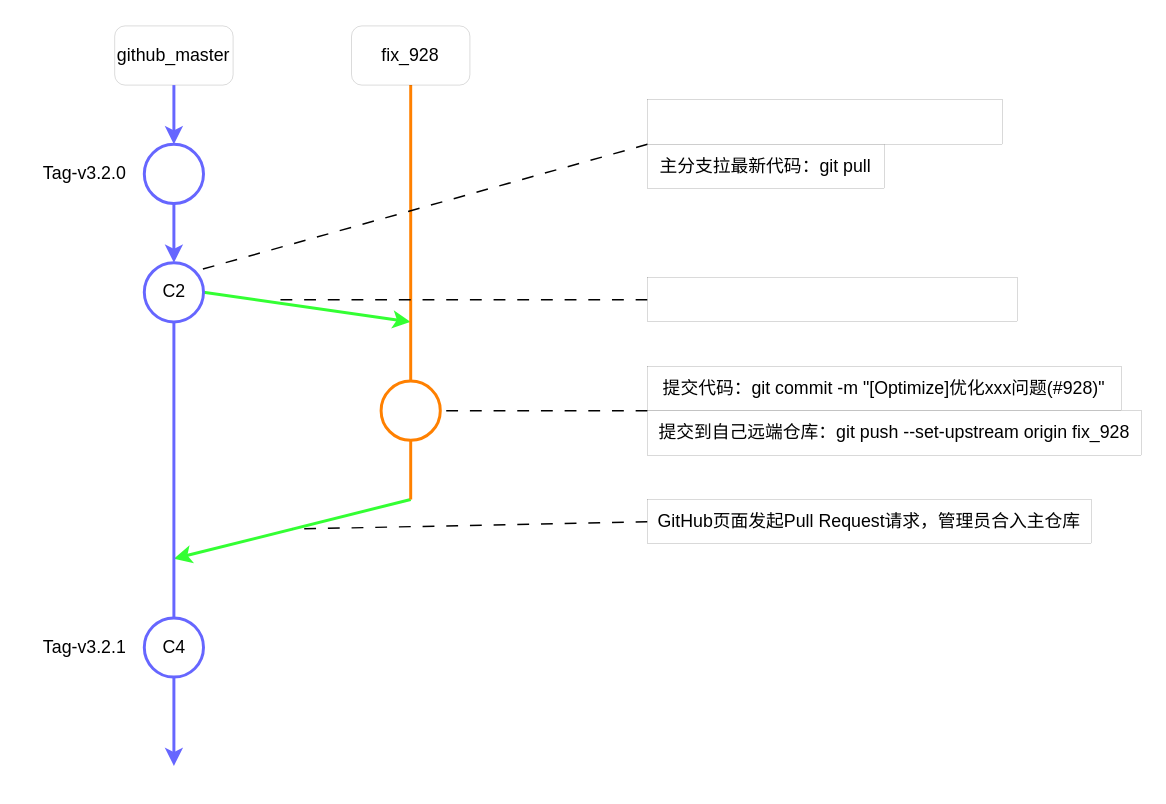
Image size: 1166x804. Some labels were removed from this diagram. Here are the shapes that lost their labels. From the top down, the centre of each, then its label:
At (824,121): "切换到主分支：git checkout github_master".
At (173,173): "C1".
At (832,299): "基于主分支拉新分支：git checkout -b fix_928".
At (410,410): "C3".
